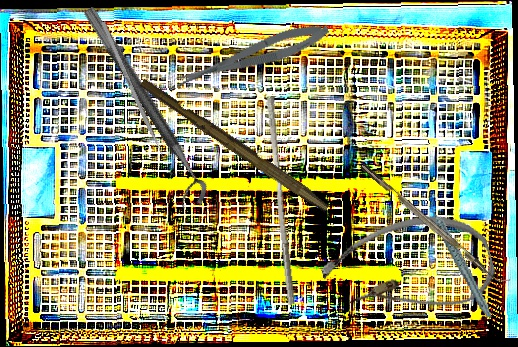Cannula: (314, 200, 502, 339)
Chopper: (360, 156, 511, 291)
Fixation Ring: (66, 5, 215, 214)
Handpiece: (428, 191, 493, 325)
Micro Scissor: (170, 16, 333, 94)
Pusher: (100, 20, 171, 171), (258, 96, 304, 306)
Scalpel Handle: (136, 77, 334, 213)
